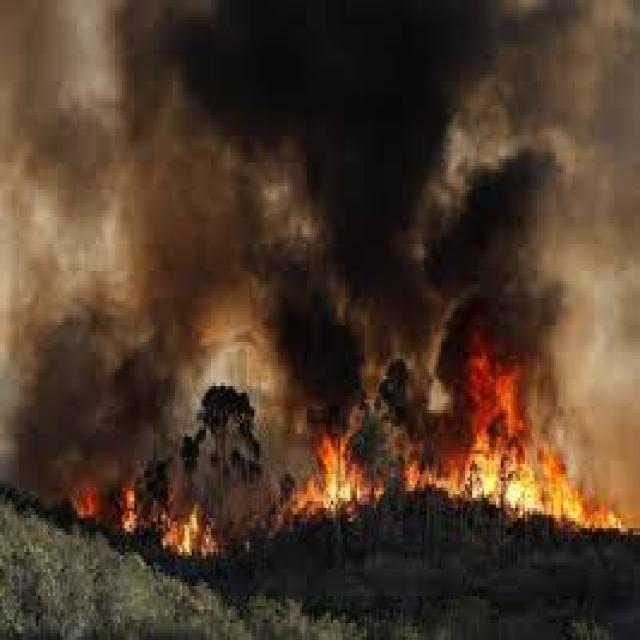Fire: (462, 363, 600, 529), (288, 436, 372, 515), (154, 499, 217, 558)
Smoke: (110, 1, 570, 329), (0, 2, 107, 327), (0, 342, 194, 476)
